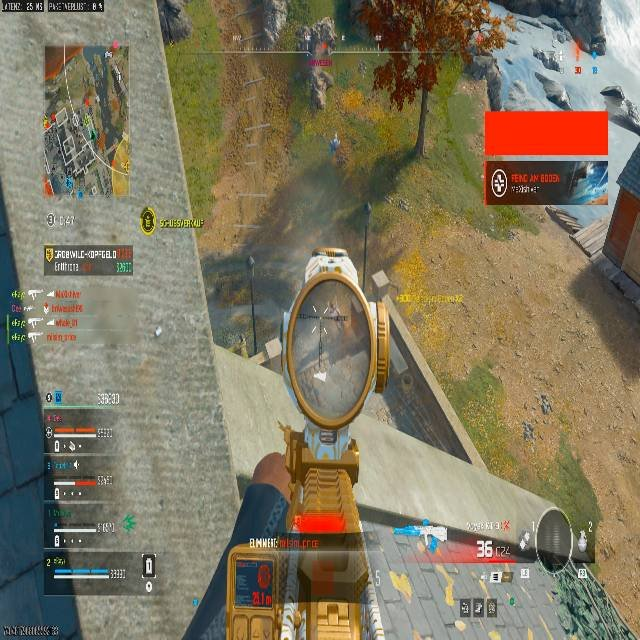player: (317, 70, 330, 98)
